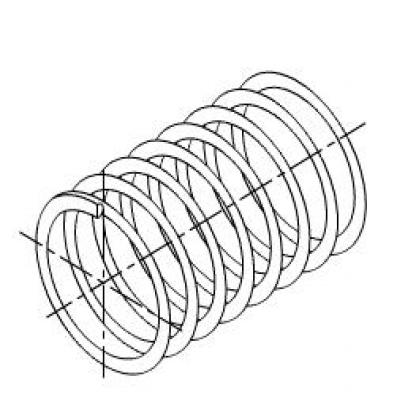FOD: (32, 67, 372, 379)
